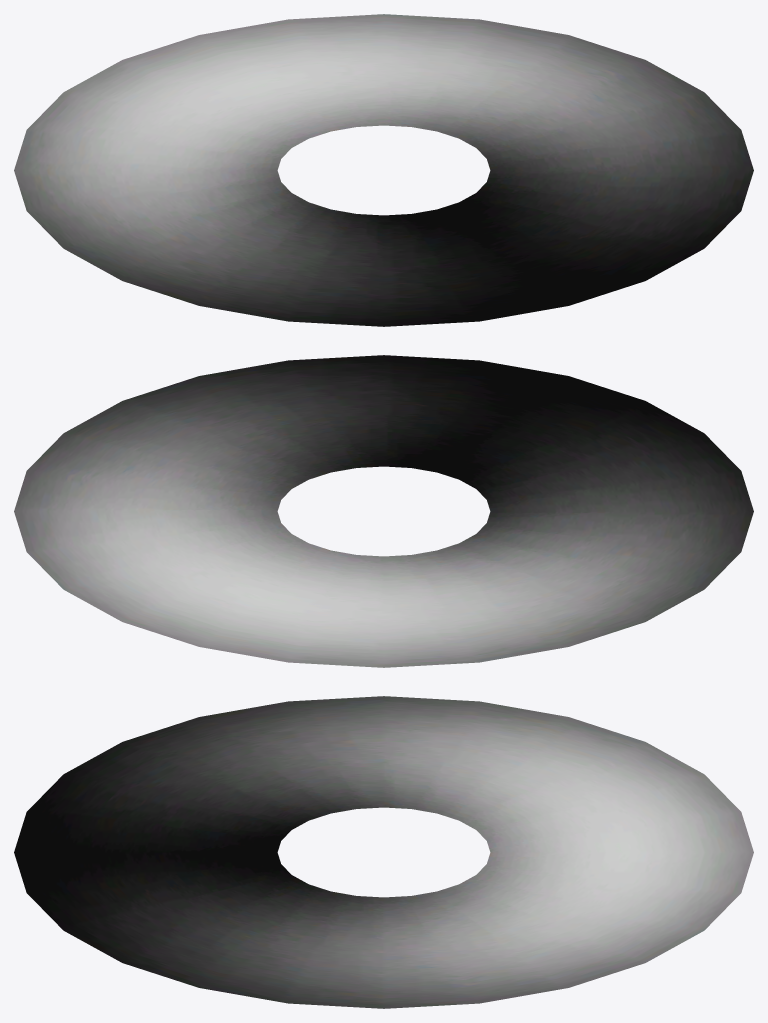
File: vfx_kurp_0349.dae
The picture shows the model from 3 angles, top to bottom: view 1: azimuth 30°, elevation 25°; view 2: azimuth 150°, elevation 25°; view 3: azimuth 270°, elevation 25°; orthographic projection.
Parts seen in each view (by area): view 1: vfx_kurp_0349; view 2: vfx_kurp_0349; view 3: vfx_kurp_0349.
Part boxes in pixels (x1,y1,x2,y2): vfx_kurp_0349: (14, 14, 753, 326); vfx_kurp_0349: (14, 355, 753, 667); vfx_kurp_0349: (14, 696, 753, 1008).
Size of the model in its own units: 14.07 by 14.07 by 9.12e-07.
1 material, 1 textured.
